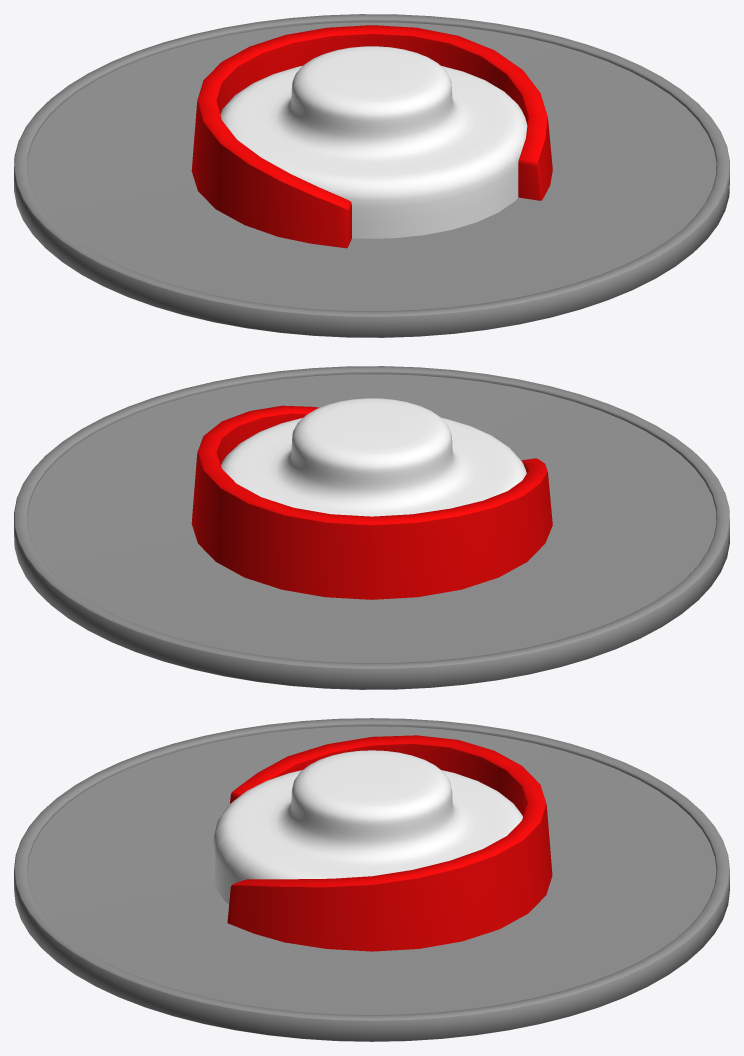
Rendered from Holder.FBX.
3 views of the same model, one above another, from view 1: azimuth 30°, elevation 25°; view 2: azimuth 150°, elevation 25°; view 3: azimuth 270°, elevation 25° (orthographic).
Visible parts, largest first — view 1: Cylinder, Stand, Hoop, Object; view 2: Cylinder, Object, Hoop, Stand; view 3: Cylinder, Object, Hoop, Stand.
Part boxes in pixels (x1,y1,x2,y2): Cylinder: (27, 22, 716, 310); Stand: (220, 46, 527, 238); Hoop: (14, 14, 729, 337); Object: (191, 25, 552, 248); Cylinder: (27, 374, 716, 662); Object: (191, 405, 552, 599); Hoop: (14, 366, 729, 689); Stand: (221, 398, 526, 516); Cylinder: (27, 726, 716, 1014); Object: (227, 735, 552, 951); Hoop: (14, 718, 729, 1041); Stand: (212, 750, 522, 904).
Size of the model in its own units: 86.67 by 15.07 by 86.67.
